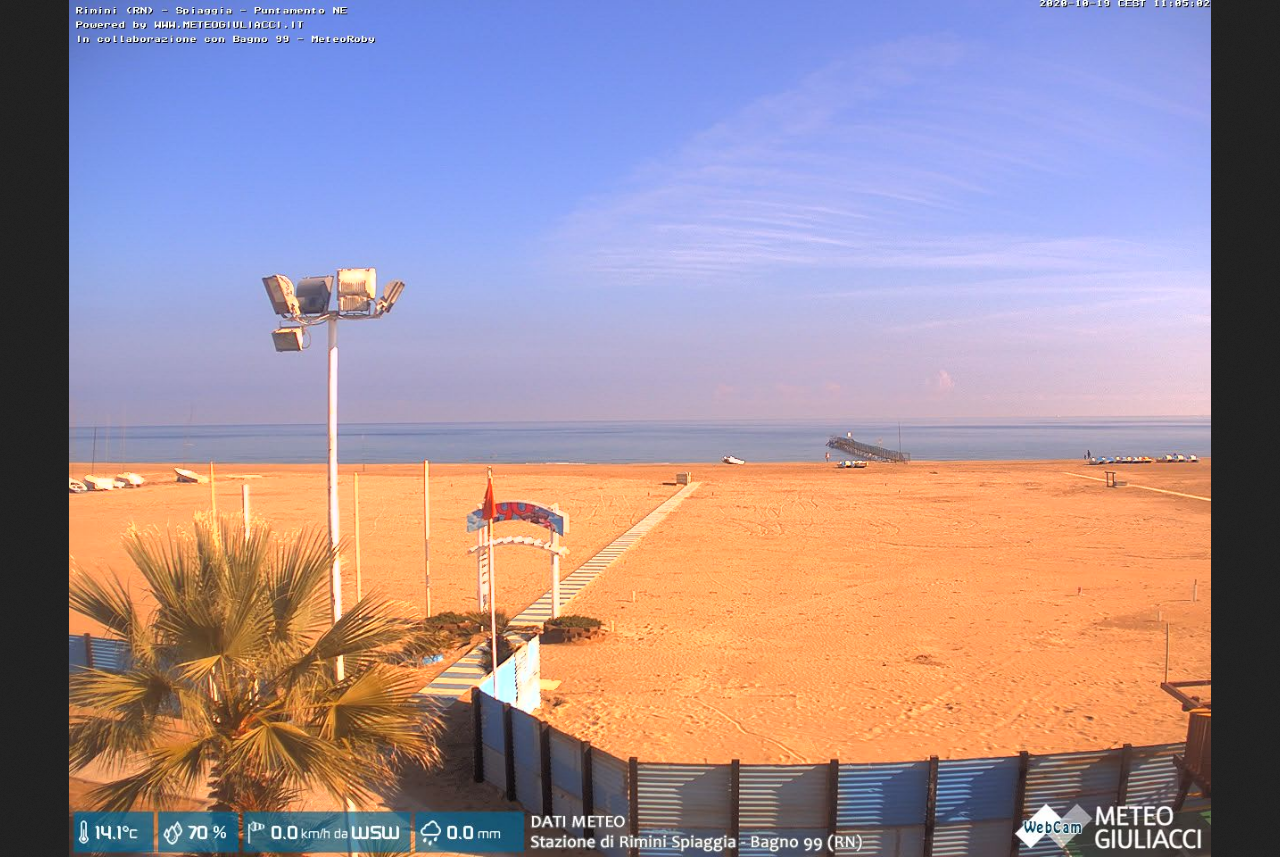no: (476, 473, 501, 526)
